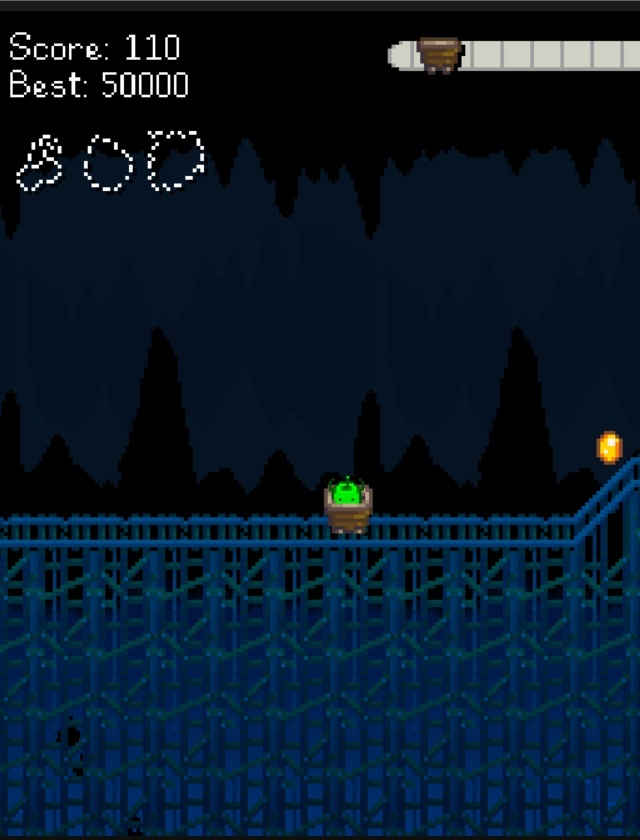coins: (597, 432, 622, 464)
minecart: (325, 488, 371, 532)
tracks: (0, 460, 639, 601)
